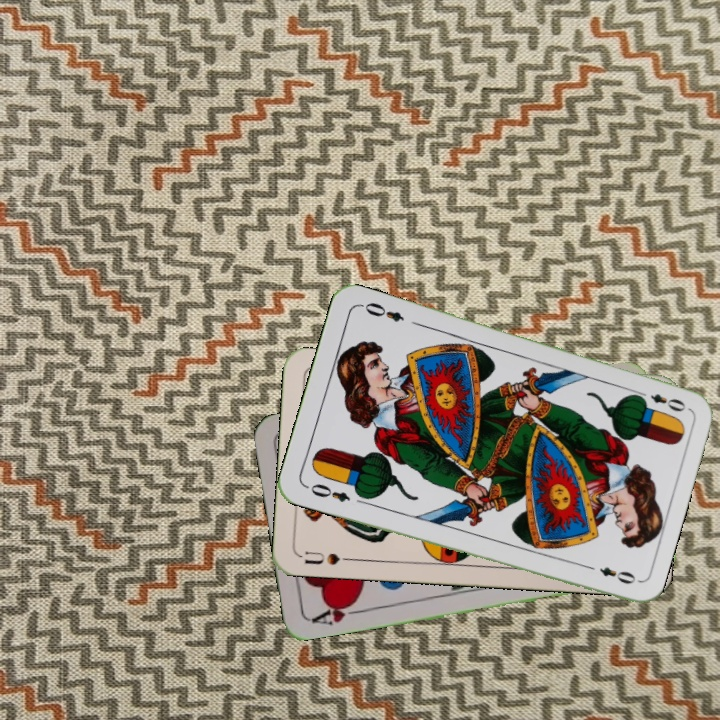EO: (632, 386, 688, 415), (306, 479, 353, 505)
HA: (307, 596, 366, 628)
SU: (297, 547, 356, 568)
